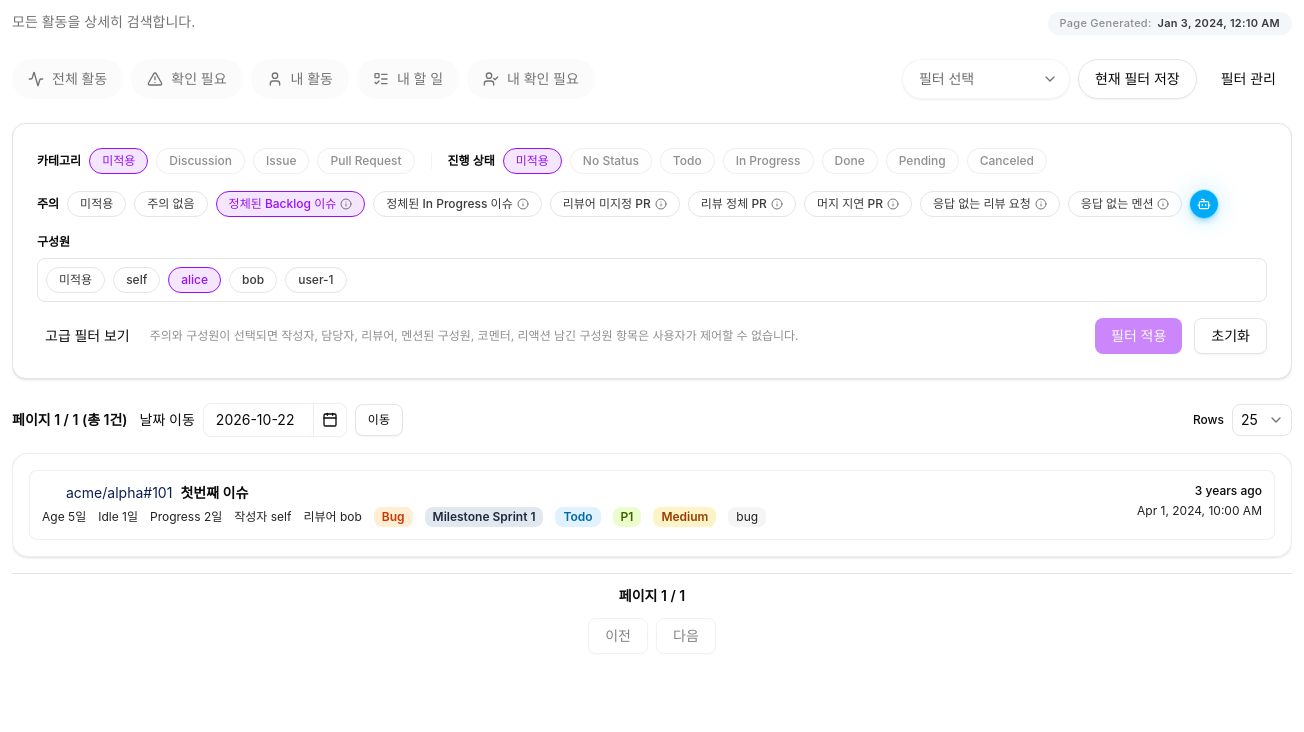
Scenario: ActivityView › locks advanced people filters and clears chips for backlog attention
Step 1. Click the button "고급 필터 보기" → [87, 336], box [37,320,138,352]
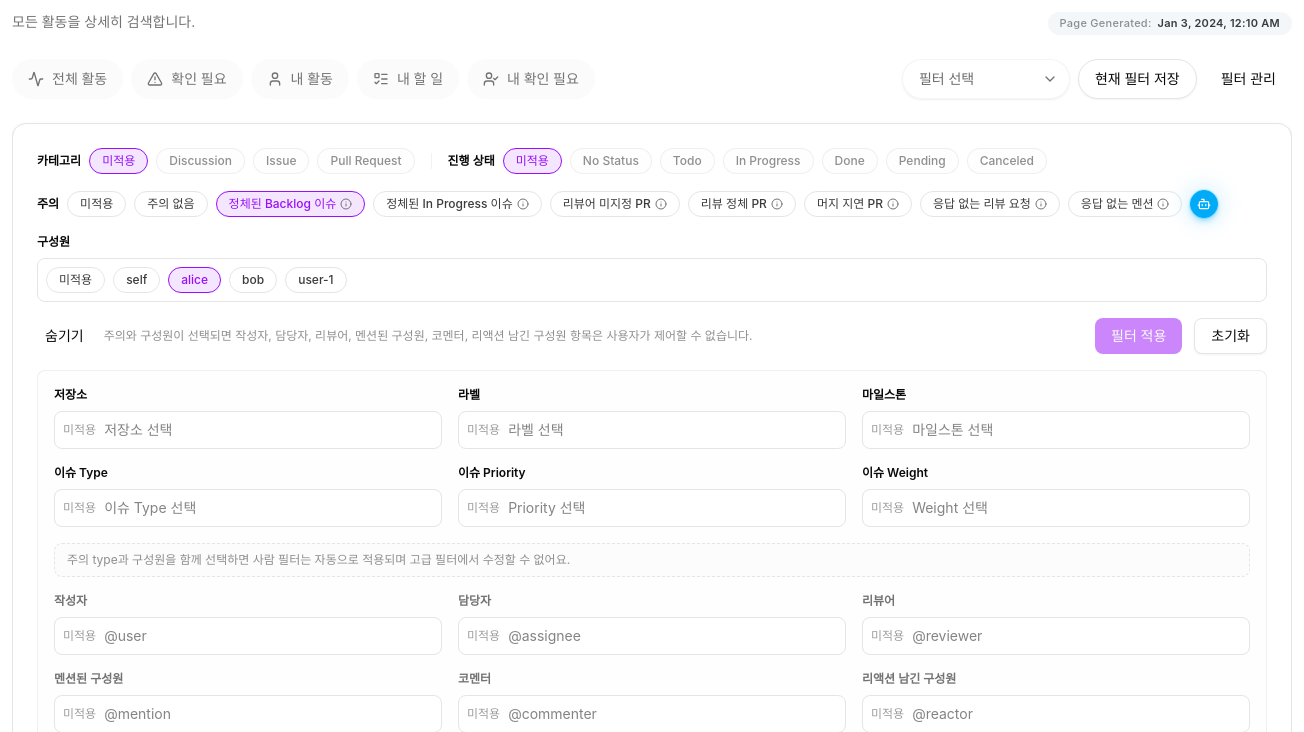
Now the text "주의 type과 구성원을 함께 선택하면 사람 필터는 자동으로 적용되며 고급 필터에서 수정할 수 없어요." is shown, box [54,543,1250,577]
Now the field with placeholder "@user" is disabled, box [100,622,433,650]
Now the field with placeholder "@assignee" is disabled, box [504,622,837,650]
